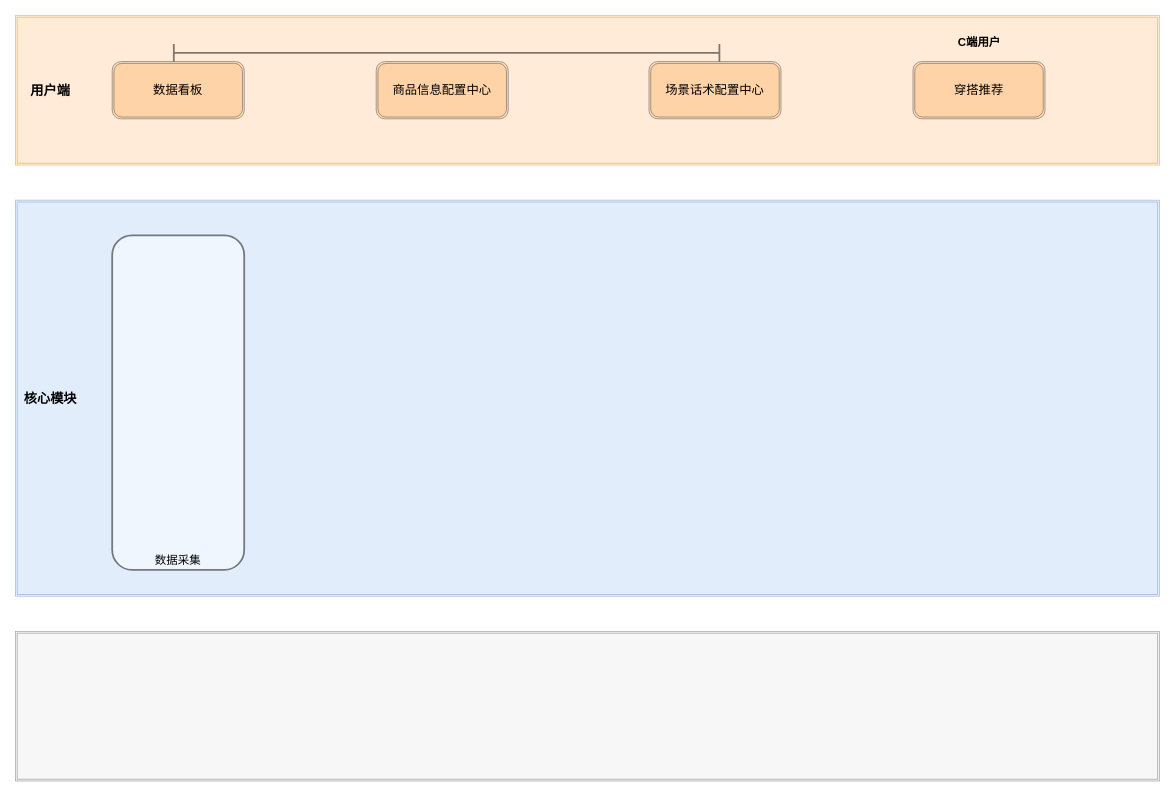
Some shapes in this 1175 by 796 pixel diagram are drawn without their labels. The centre of each missing label's shape, as x and y in pixels:
"B端用户" belongs at (x=446, y=52).
"基础服务" belongs at (x=587, y=706).
